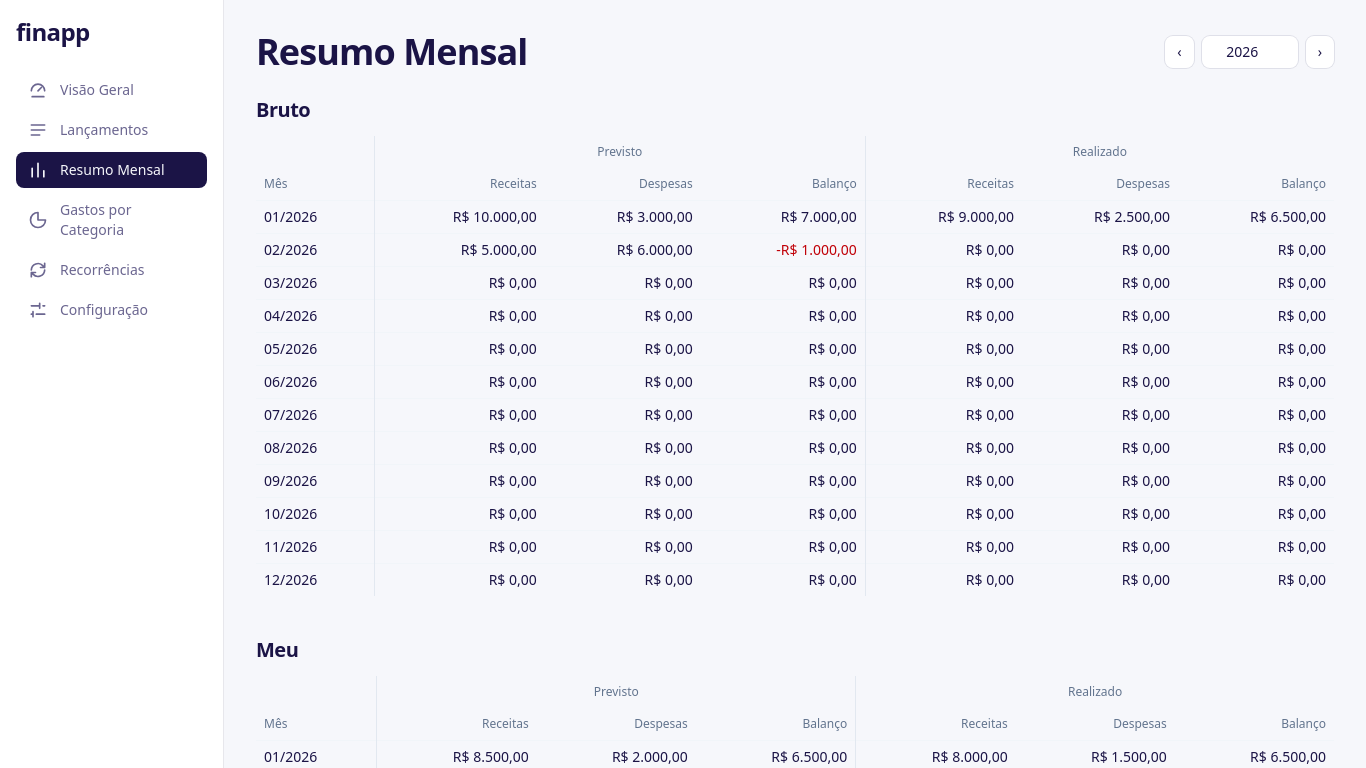
Test case: Year › moves to the previous and next years
Expected: the heading "Resumo Mensal" is shown, [256,32,527,72]
Click the button named "Ano anterior".
click(1179, 52)  # box [1165,36,1194,68]
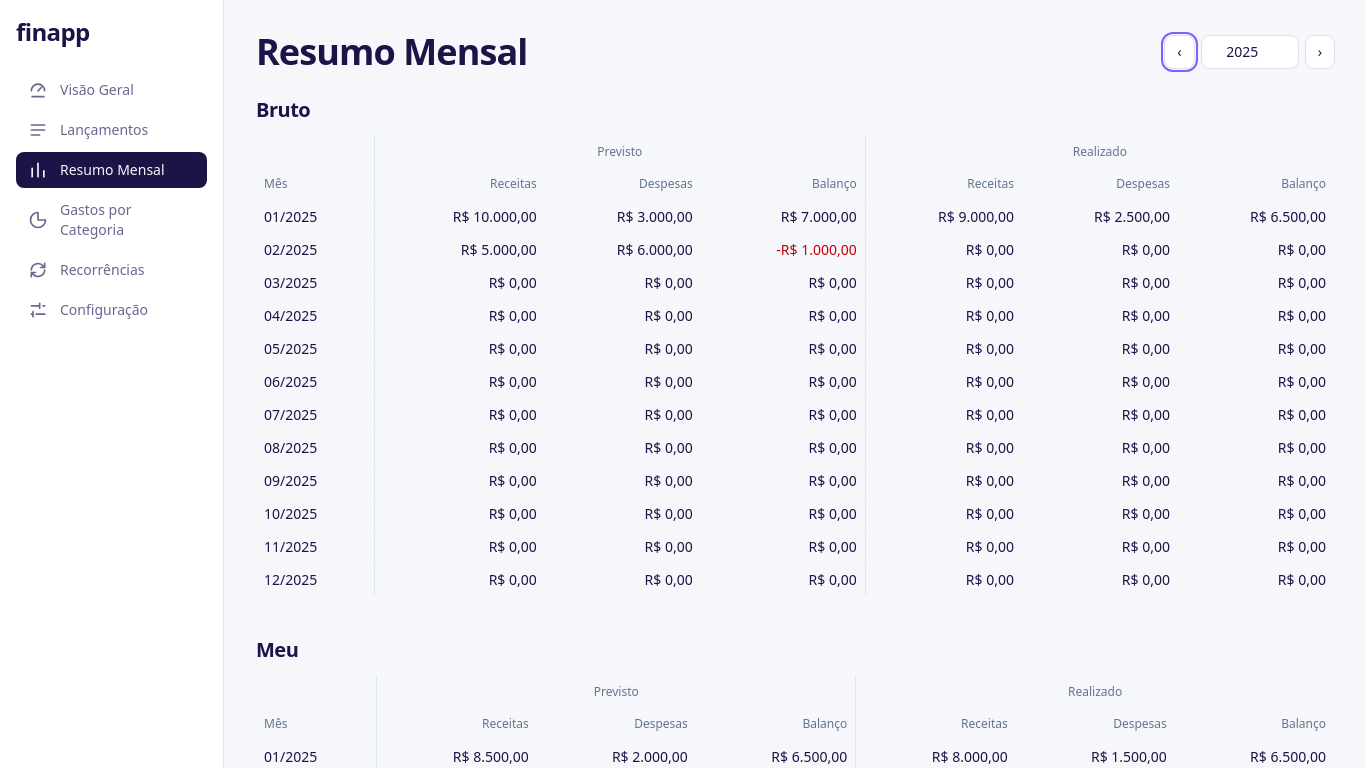
Expected: the number field named "Ano" holds "2025", [1202,36,1298,68]
Click the button named "Próximo ano".
click(1320, 52)  # box [1306,36,1334,68]
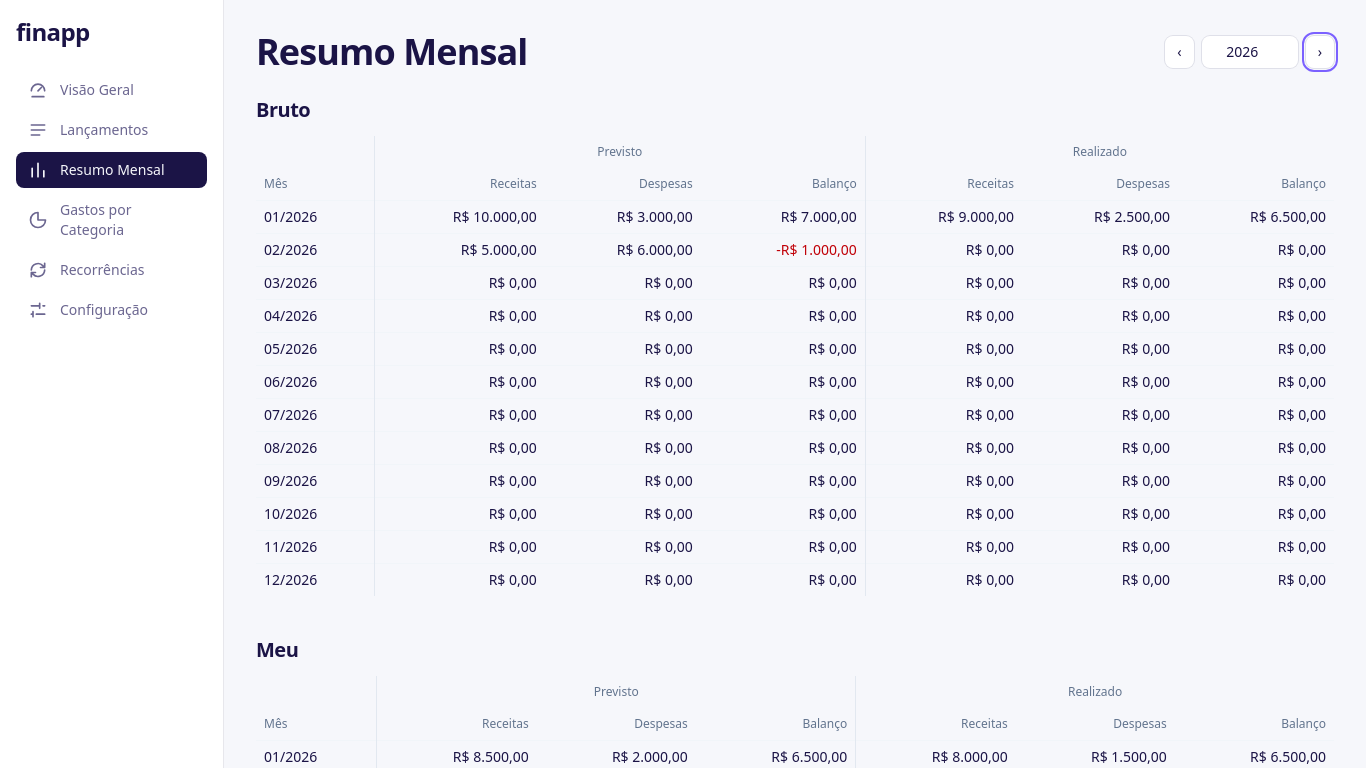
Click the button named "Próximo ano".
click(1320, 52)  # box [1306,36,1334,68]
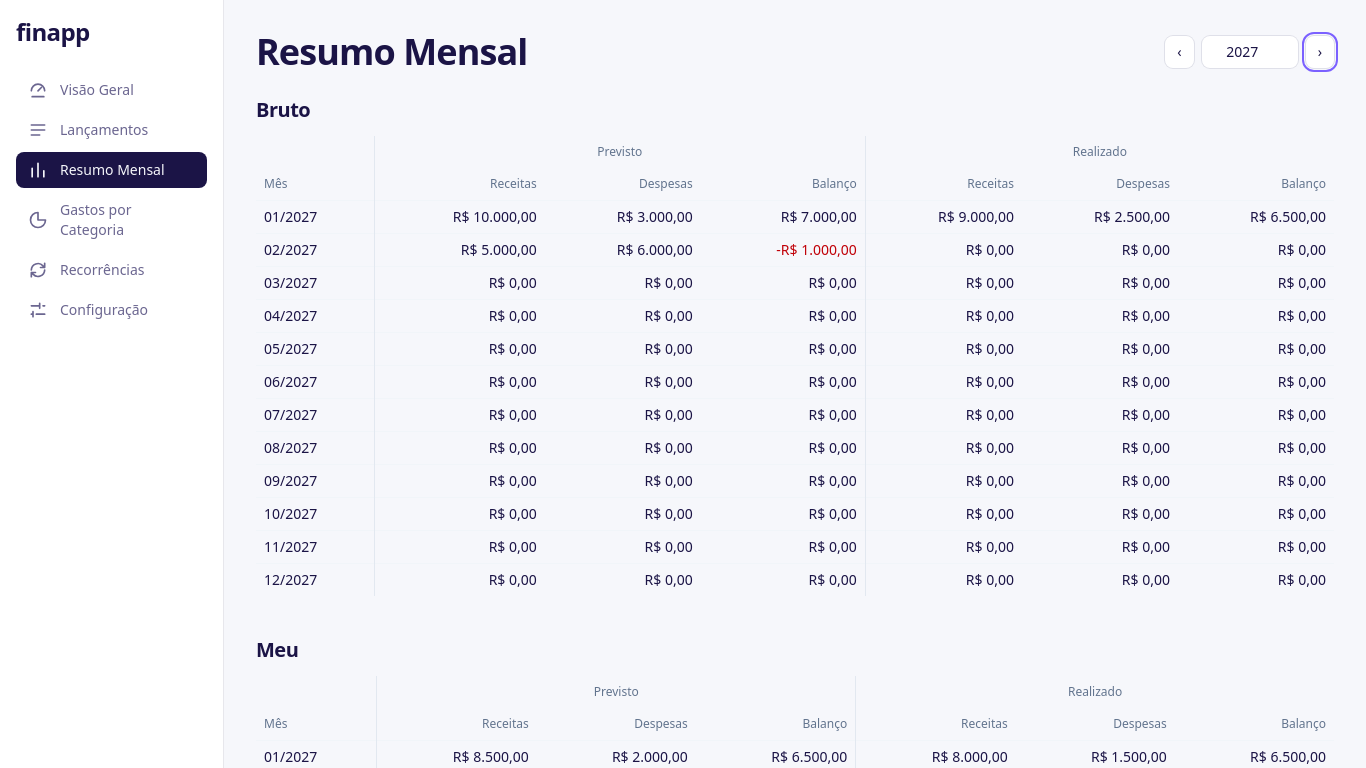
Expected: the number field named "Ano" holds "2027", [1202,36,1298,68]
